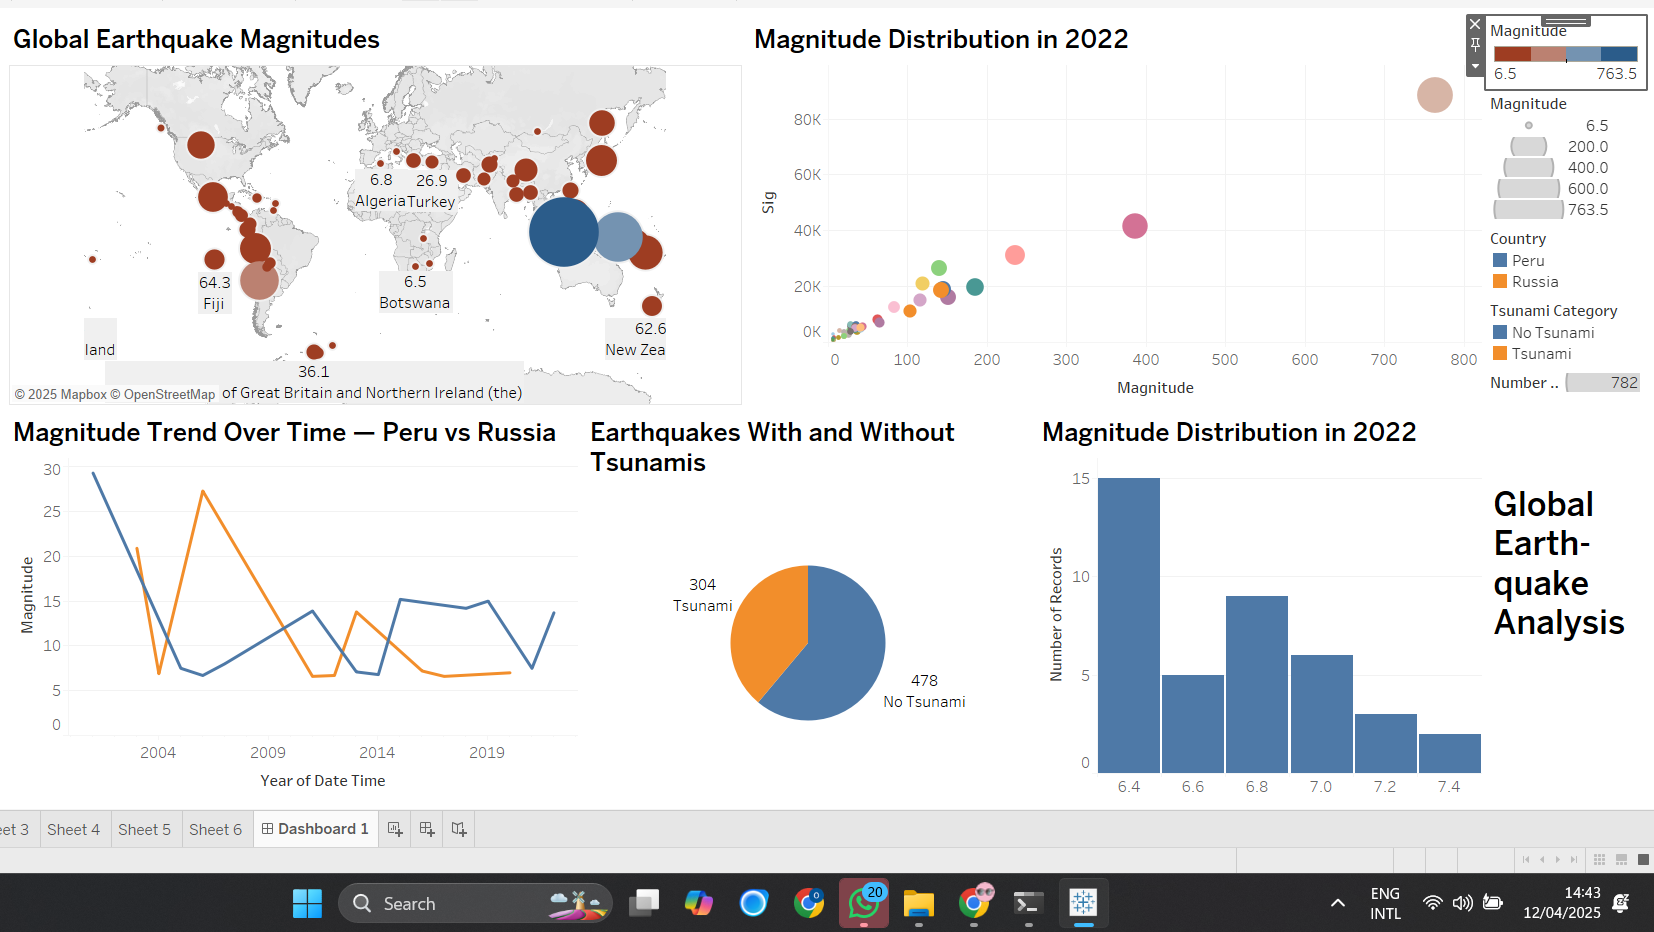

The page's visual inventory and layout, read from the dashboard file:
{"tool":"tableau","page":{"name":"Dashboard 1","canvas":[1000,1000],"units":"permille","ordinal":0},"visuals":[{"type":"worksheet","title":"Sheet 1","mark":"Automatic","rows":["Segment","Calculation_692991459604869121"],"cols":["Category","Ship Status"],"box":[4.8,10,456.9,980]},{"type":"worksheet","title":"Sheet 2","mark":"Automatic","rows":["Region"],"cols":["Ship Status","Quantity"],"box":[461.7,10,456.9,490]},{"type":"legend","title":"Sheet 1","param":"[federated.1aw4yaz1ljp2eh1629qeu0w2o9s7].[none:Segment:nk]","box":[918.5,10,76.6,116.1]},{"type":"legend","title":"Sheet 2","param":"[federated.1aw4yaz1ljp2eh1629qeu0w2o9s7].[none:Region:nk]","box":[918.5,126.1,76.6,142.3]},{"type":"worksheet","title":"Sheet 3","mark":"Automatic","rows":["Profit"],"cols":["Order Date"],"box":[461.7,500,228.4,490]},{"type":"worksheet","title":"Sheet 4","mark":"Pie","box":[690.1,500,228.4,490]}]}

Visuals, with their boxes on the dashboard's canvas, which has no fixed pixel size, in thousandths of its width and height (x1, y1, x2, y2). These are canvas units, not pixel positions in the 1654x932 screenshot, which may show the page scaled, cropped or inside an application window:
"Sheet 1" worksheet: bbox=(5, 10, 462, 990)
"Sheet 2" worksheet: bbox=(462, 10, 919, 500)
"Sheet 1" legend: bbox=(918, 10, 995, 126)
"Sheet 2" legend: bbox=(918, 126, 995, 268)
"Sheet 3" worksheet: bbox=(462, 500, 690, 990)
"Sheet 4" worksheet (Pie marks): bbox=(690, 500, 918, 990)
